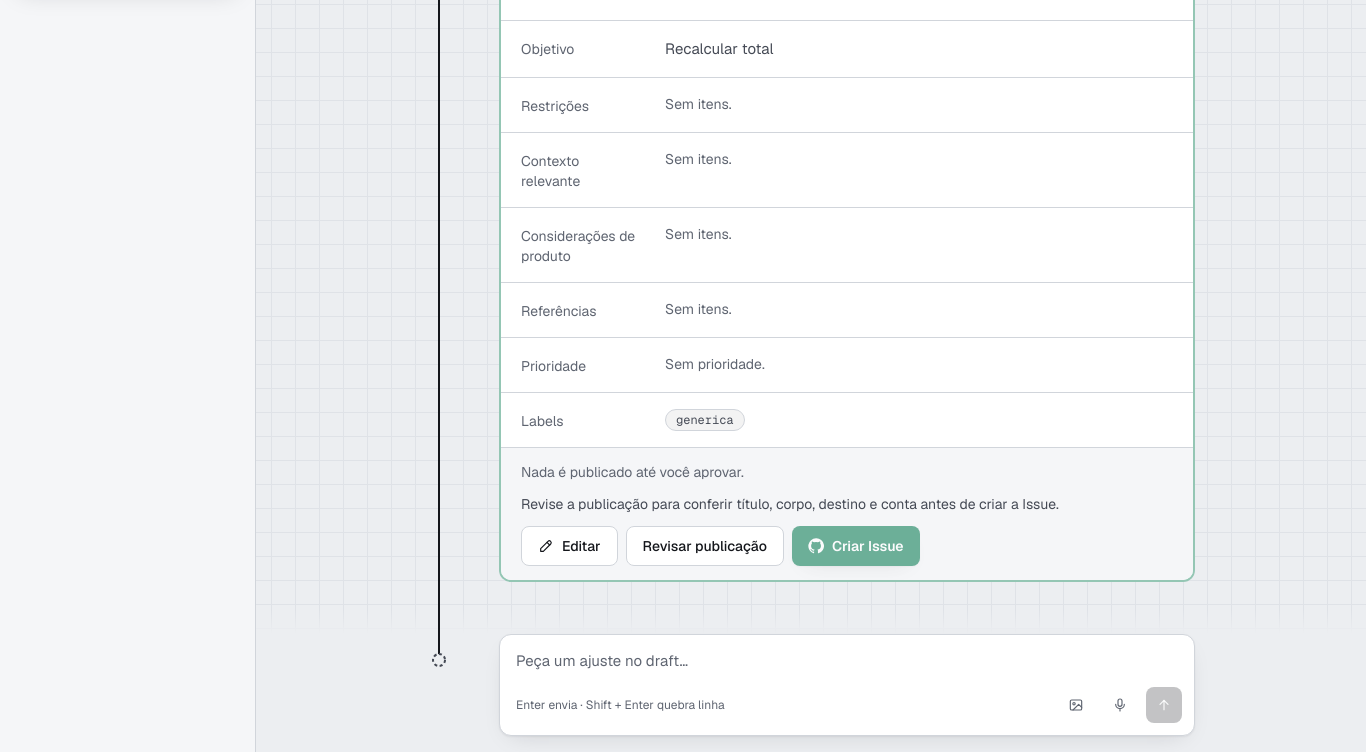
Scenario: PublicationPreview assignment option › V-08a offers an unchecked checkbox reachable by Tab and toggled by Space
(page scrolled)
Click the button "Revisar publicação" at point(705, 546), box [626,526,784,566]
(page scrolled)
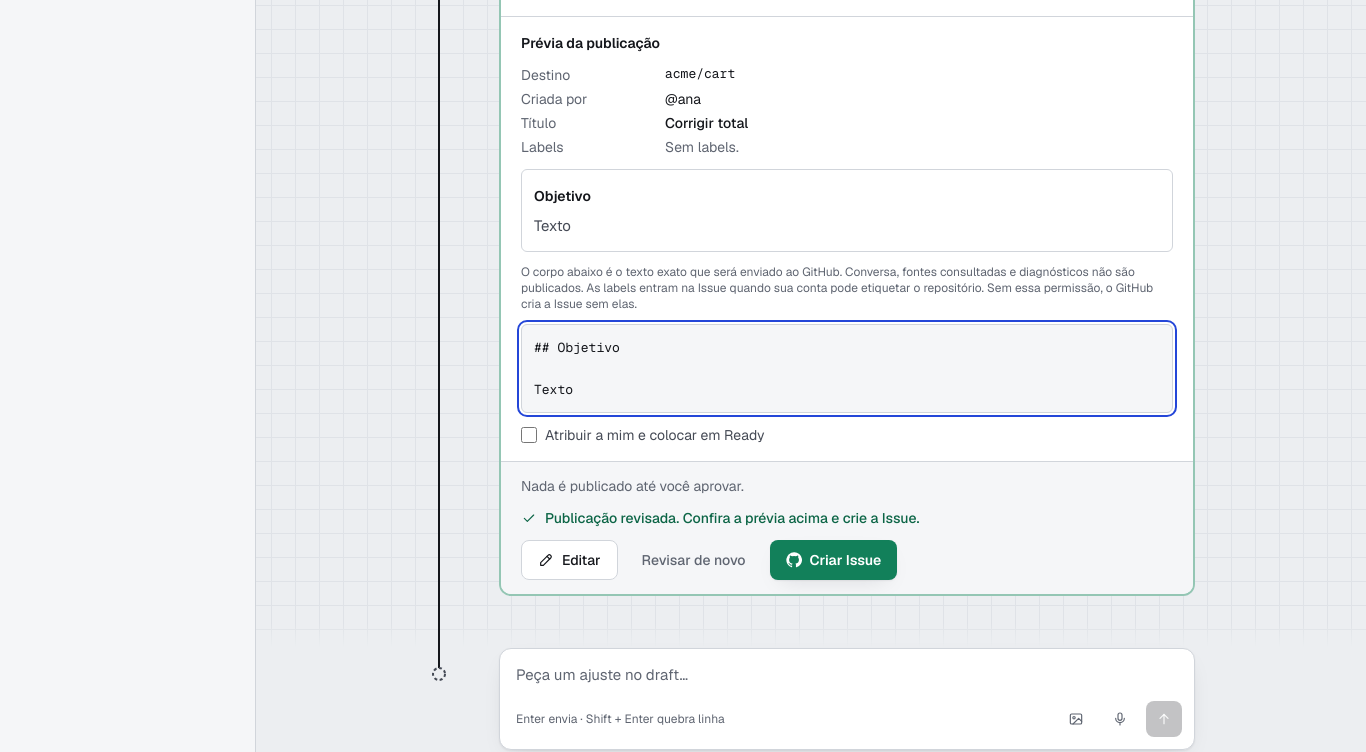
Result: the checkbox labelled "Atribuir a mim e colocar em Ready" is not checked at [521,427,537,443]
Press Tab
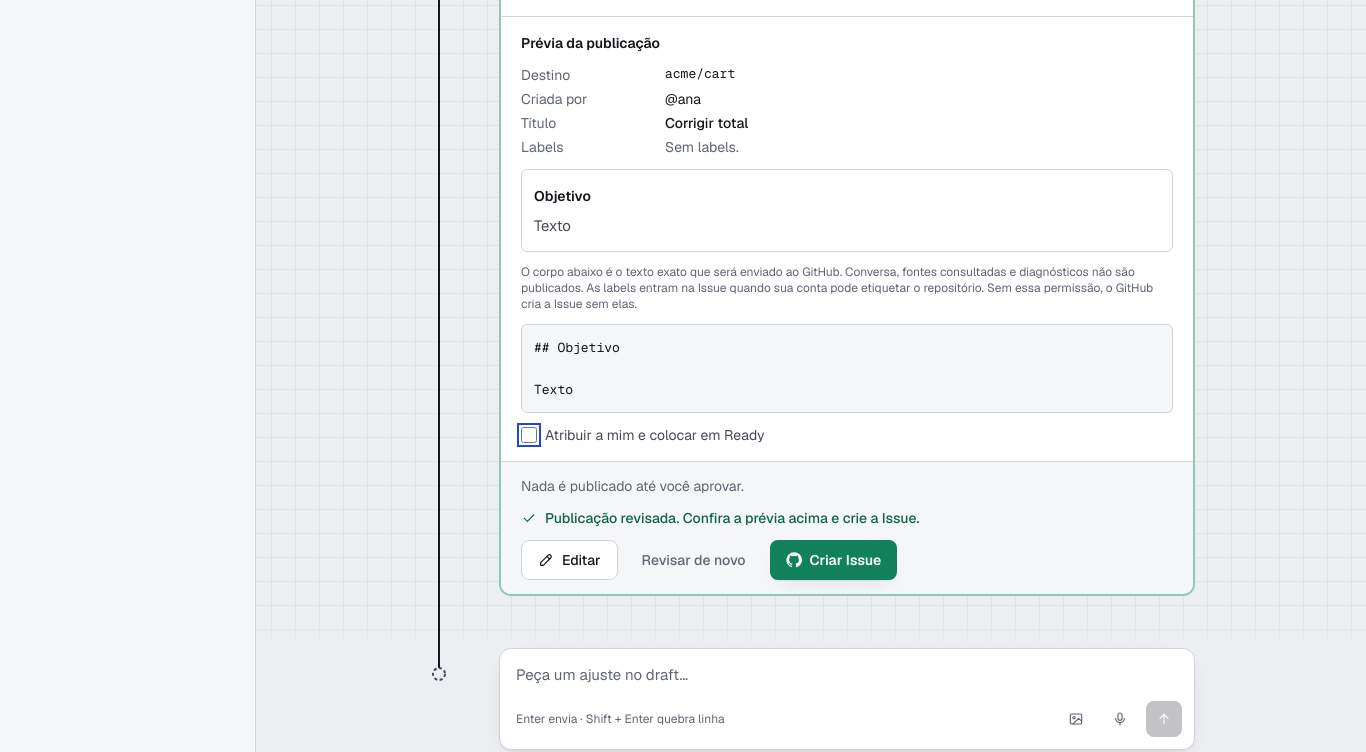
Type keys " "
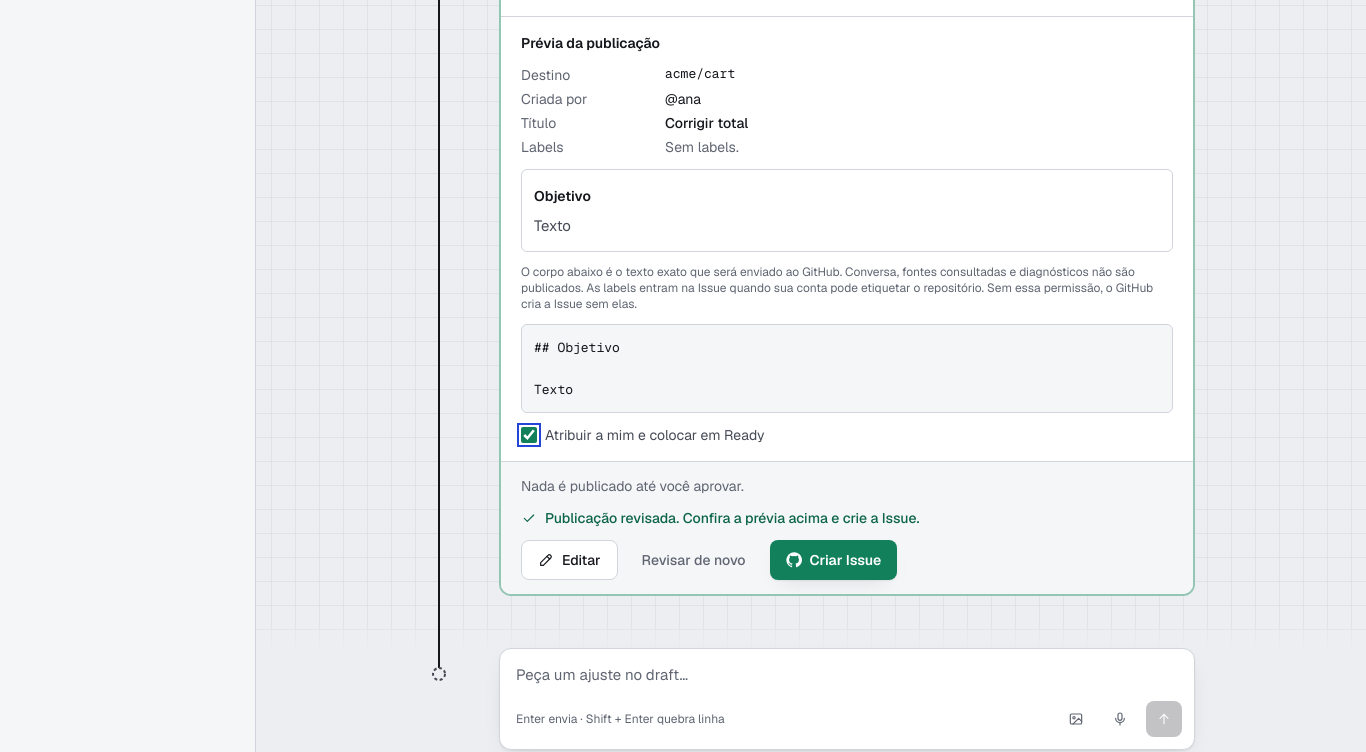
Result: the checkbox labelled "Atribuir a mim e colocar em Ready" is checked at [521,427,537,443]
